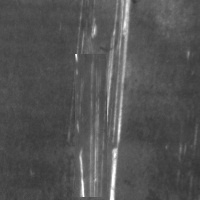scratches: (100, 1, 131, 199), (75, 54, 107, 197), (73, 7, 98, 60)
